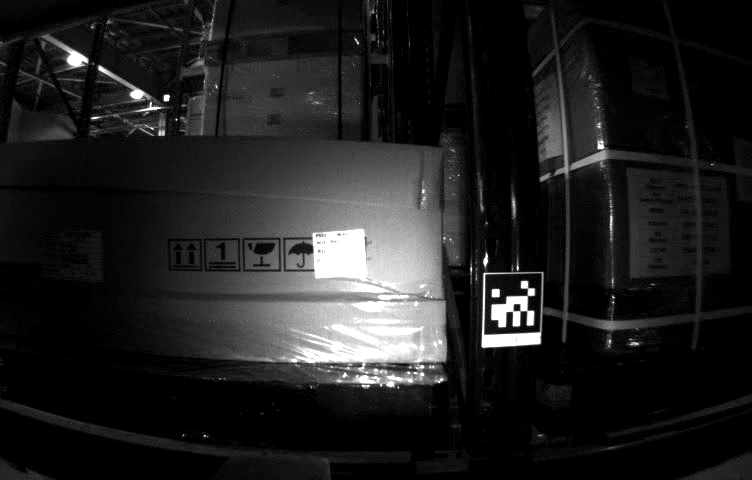True Barcode: (311, 229, 368, 278), (624, 49, 664, 96)
